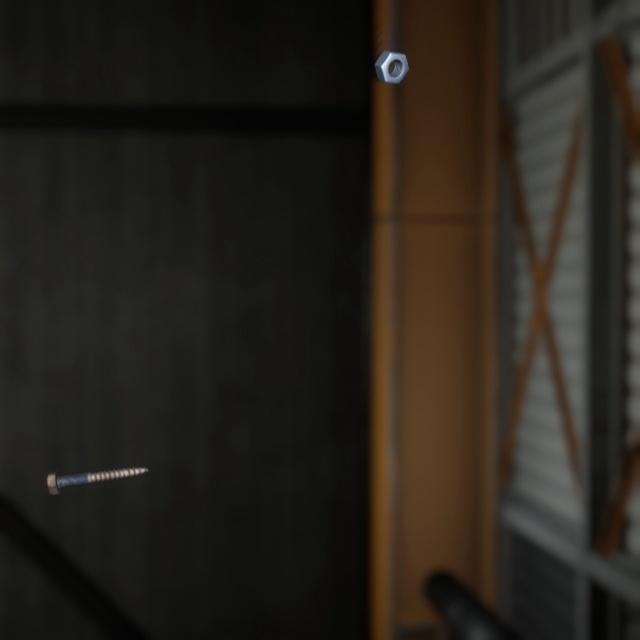bolt: (42, 441, 153, 478)
nut: (370, 37, 413, 79)
